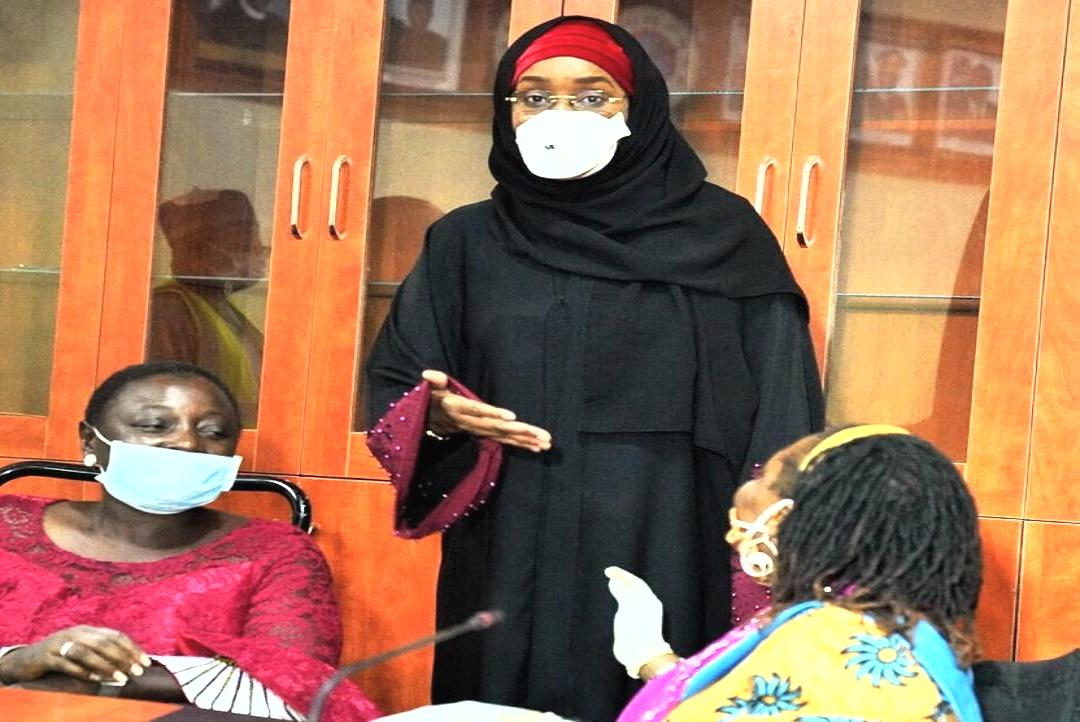mask_weared_incorrect: (79, 364, 244, 517)
